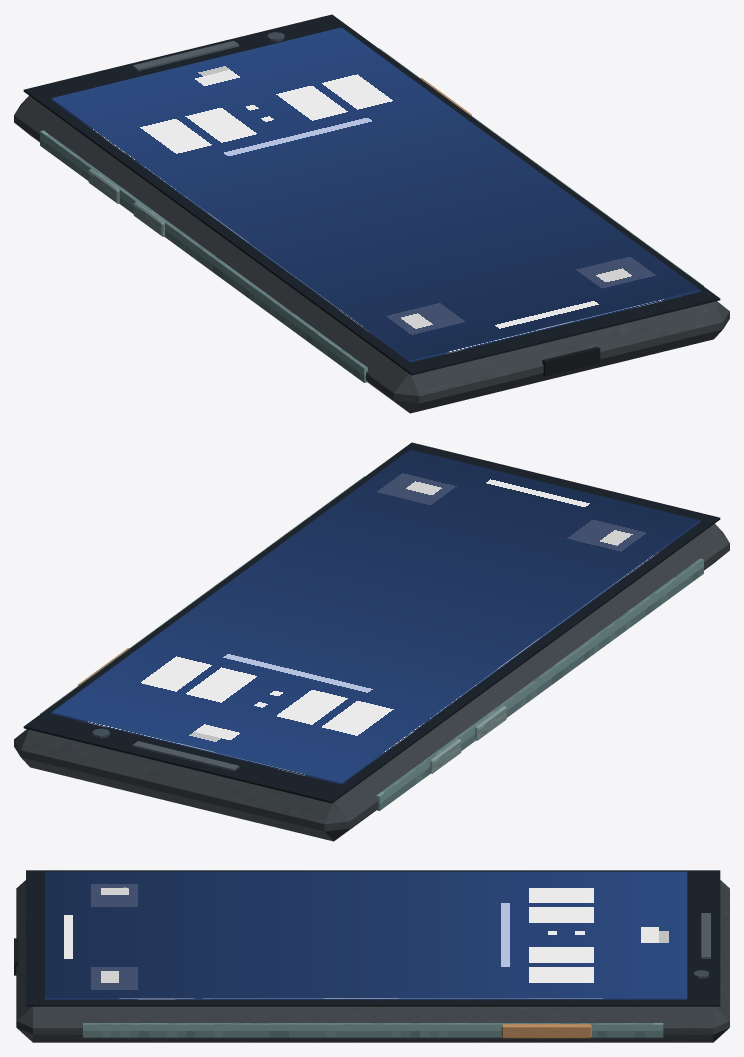
File: smart_phone_locked.glb
3 views of the same model, one above another, from view 1: azimuth 30°, elevation 25°; view 2: azimuth 150°, elevation 25°; view 3: azimuth 270°, elevation 25° (orthographic). The views are drawn at different scales.
Parts seen in each view (by area): view 1: block_screen, block_graphite bumper, block_black glass border, block_brushed rail -0.0365, block_USB charging socket, block_earpiece; view 2: block_screen, block_graphite bumper, block_black glass border, block_brushed rail -0.0365, block_earpiece; view 3: block_screen, block_graphite bumper, block_black glass border, block_brushed rail 0.0365, block_power, block_earpiece.
Boxes of the visible parts, <box> form: block_screen: <box>51,27,700,362</box>; block_graphite bumper: <box>14,95,729,413</box>; block_black glass border: <box>23,14,720,375</box>; block_brushed rail -0.0365: <box>40,130,367,382</box>; block_USB charging socket: <box>542,346,600,376</box>; block_earpiece: <box>132,40,239,70</box>; block_screen: <box>51,449,700,784</box>; block_graphite bumper: <box>14,523,729,841</box>; block_black glass border: <box>23,442,720,803</box>; block_brushed rail -0.0365: <box>376,558,703,810</box>; block_earpiece: <box>132,741,239,771</box>; block_screen: <box>45,871,687,999</box>; block_graphite bumper: <box>16,880,729,1042</box>; block_black glass border: <box>26,870,720,1006</box>; block_brushed rail 0.0365: <box>83,1023,663,1037</box>; block_power: <box>501,1024,591,1038</box>; block_earpiece: <box>701,913,710,958</box>.
Bounding box in the file's own units: 0.075 × 0.0096 × 0.1505.
Materials: 2 (2 with a texture image).
